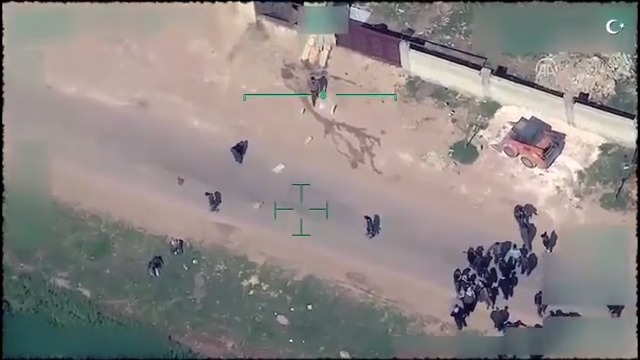arac: (487, 108, 564, 178)
insan: (308, 72, 329, 108), (494, 270, 514, 300), (362, 212, 378, 243), (449, 302, 466, 330), (202, 188, 219, 213), (539, 229, 552, 255)
